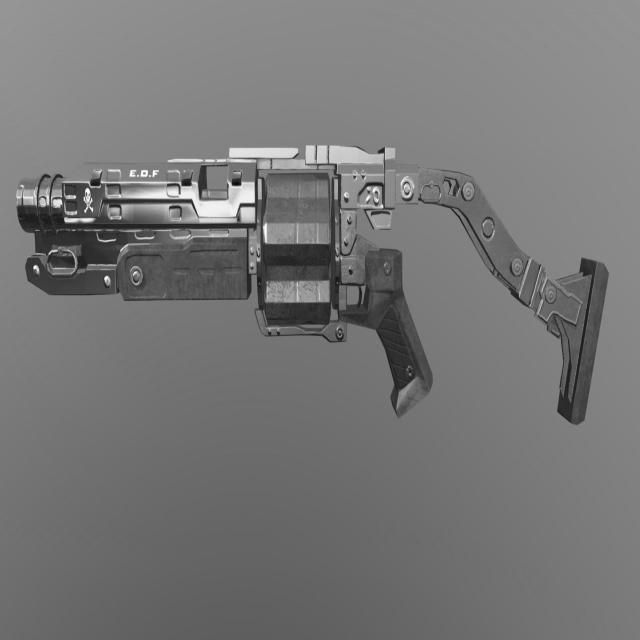Lancher: (15, 120, 635, 471)
